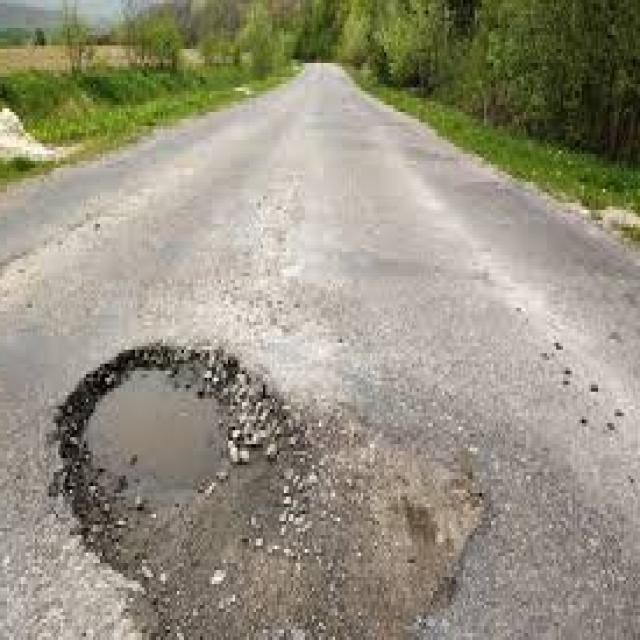Pothole: (56, 344, 484, 640)
